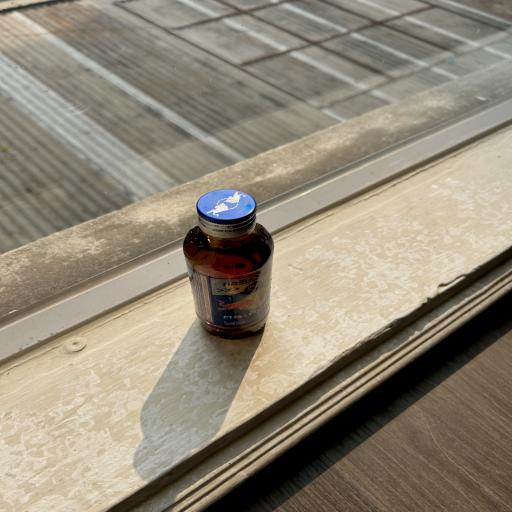bo_huc: (182, 188, 274, 339)
